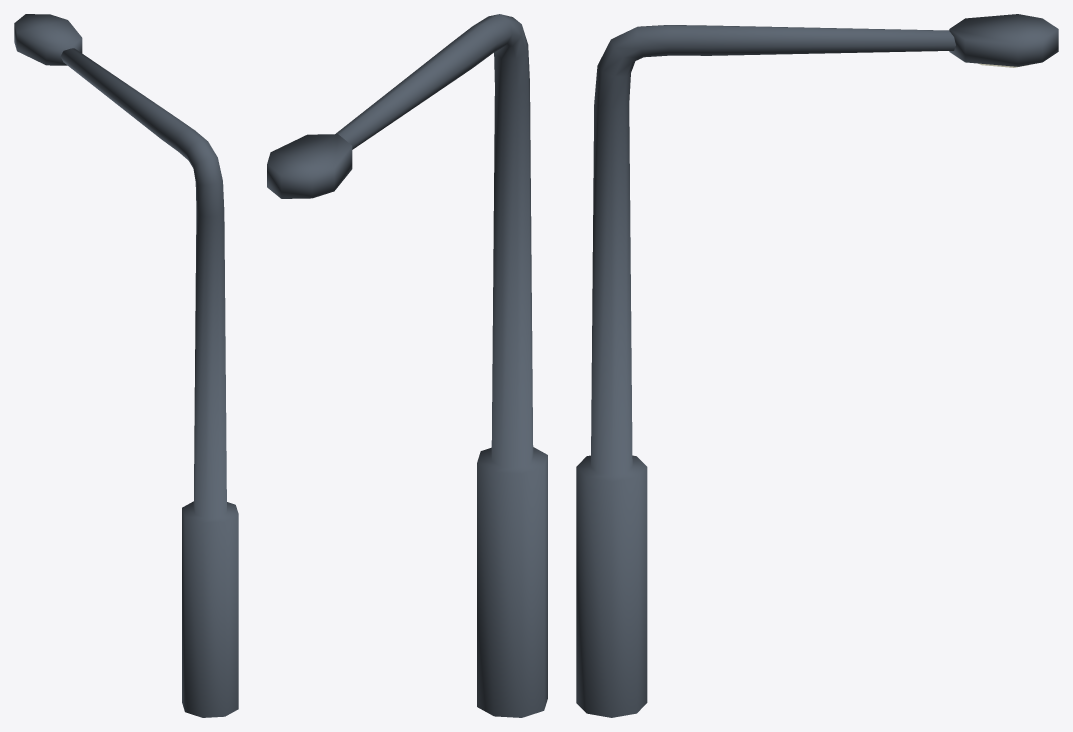
The model's file is MDL_Spotlight.fbx.
3 renders of one model, left to right at view 1: azimuth 30°, elevation 25°; view 2: azimuth 150°, elevation 25°; view 3: azimuth 270°, elevation 25°, orthographic. The views are drawn at different scales.
Parts seen in each view (by area): view 1: mesh_spotlight; view 2: mesh_spotlight; view 3: mesh_spotlight.
Part boxes in pixels (bbox=[...]): mesh_spotlight: bbox=[14, 14, 238, 717]; mesh_spotlight: bbox=[267, 14, 547, 717]; mesh_spotlight: bbox=[576, 14, 1058, 717].
Bounding box in the file's own units: 62.49 × 655 × 422.
1 material, 1 textured.
